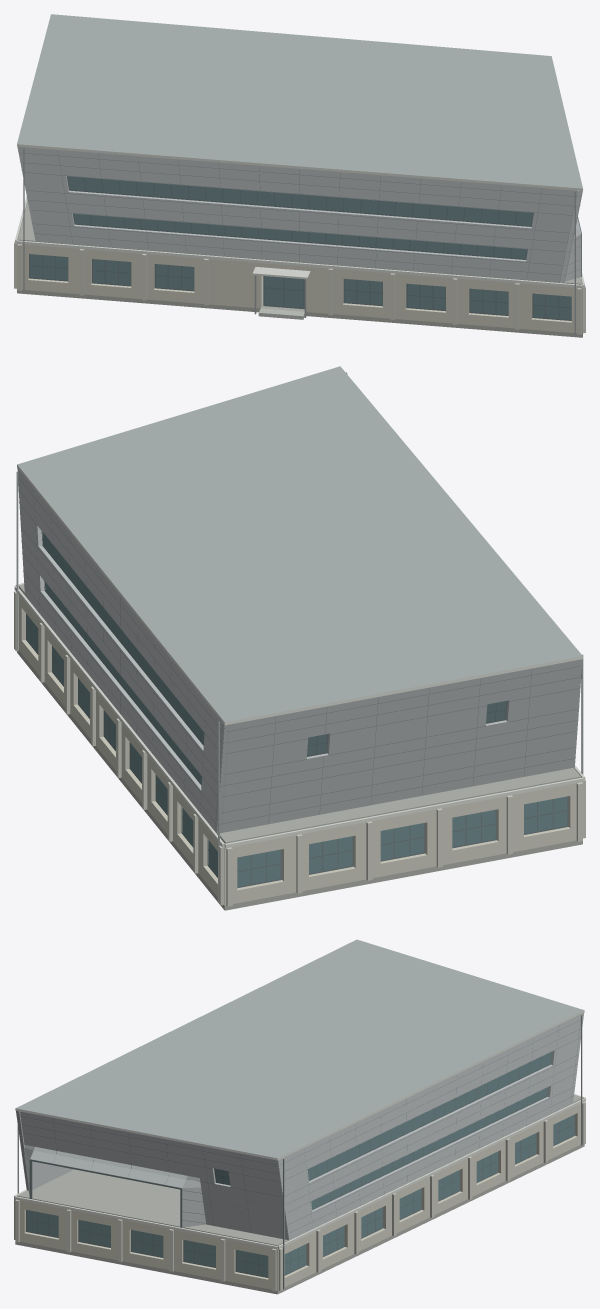
The picture shows the model from 3 angles, top to bottom: view 1: azimuth 30°, elevation 25°; view 2: azimuth 150°, elevation 25°; view 3: azimuth 270°, elevation 25°; orthographic projection. The views are drawn at different scales.
Visible parts, largest first — view 1: gym__roof, gym__wall, gym__glass, gym__cream, gym__panel-seam, gym__trim, gym__frame, gym__floor-structure, gym__pier, gym__metal; view 2: gym__roof, gym__wall, gym__cream, gym__glass, gym__floor-structure, gym__trim, gym__panel-seam, gym__pier, gym__frame, gym__metal; view 3: gym__roof, gym__wall, gym__cream, gym__glass, gym__floor-structure, gym__trim, gym__frame, gym__panel-seam, gym__pier, gym__metal.
Boxes of the visible parts, bbox=[...] form: gym__roof: bbox=[17, 14, 582, 188]; gym__wall: bbox=[17, 146, 583, 282]; gym__glass: bbox=[30, 176, 571, 319]; gym__cream: bbox=[16, 202, 583, 333]; gym__panel-seam: bbox=[20, 151, 581, 279]; gym__trim: bbox=[15, 144, 584, 288]; gym__frame: bbox=[29, 176, 581, 320]; gym__floor-structure: bbox=[17, 203, 582, 337]; gym__pier: bbox=[14, 216, 585, 334]; gym__metal: bbox=[23, 148, 575, 334]; gym__roof: bbox=[17, 366, 582, 722]; gym__wall: bbox=[17, 468, 582, 833]; gym__cream: bbox=[19, 595, 582, 905]; gym__glass: bbox=[26, 532, 567, 886]; gym__floor-structure: bbox=[17, 584, 582, 910]; gym__trim: bbox=[14, 465, 585, 848]; gym__panel-seam: bbox=[18, 477, 580, 824]; gym__pier: bbox=[14, 591, 585, 906]; gym__frame: bbox=[26, 531, 568, 888]; gym__metal: bbox=[16, 372, 583, 902]; gym__roof: bbox=[16, 939, 583, 1158]; gym__wall: bbox=[16, 1013, 583, 1240]; gym__cream: bbox=[15, 1103, 580, 1290]; gym__glass: bbox=[27, 1052, 574, 1276]; gym__floor-structure: bbox=[15, 1095, 584, 1294]; gym__trim: bbox=[14, 1010, 585, 1249]; gym__frame: bbox=[26, 1052, 575, 1277]; gym__panel-seam: bbox=[17, 1020, 580, 1233]; gym__pier: bbox=[14, 1101, 585, 1291]; gym__metal: bbox=[17, 1015, 582, 1289].
Size of the model in its own units: 37.84 by 10.9 by 41.5.
